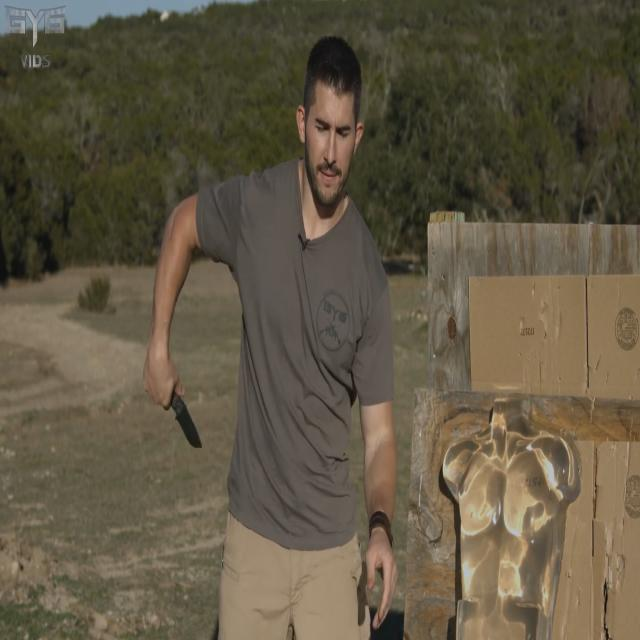knife: (172, 388, 204, 454)
